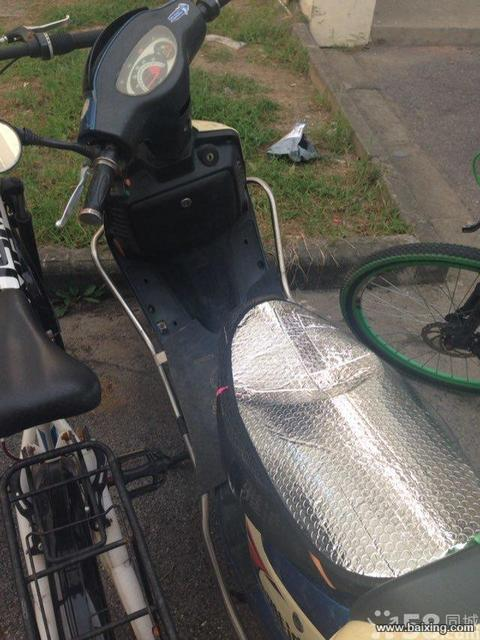电动车: (22, 4, 480, 629)
